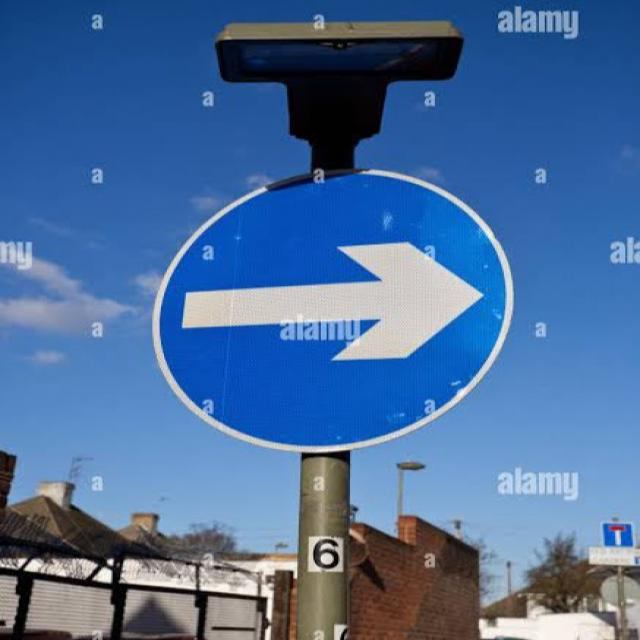Turn Right: (149, 179, 516, 444)
